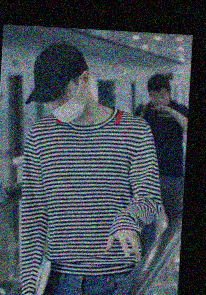mask_weared_incorrect: (45, 80, 83, 123)
without_mask: (148, 88, 170, 109)
